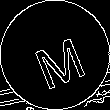M_N: (24, 23, 86, 87)
